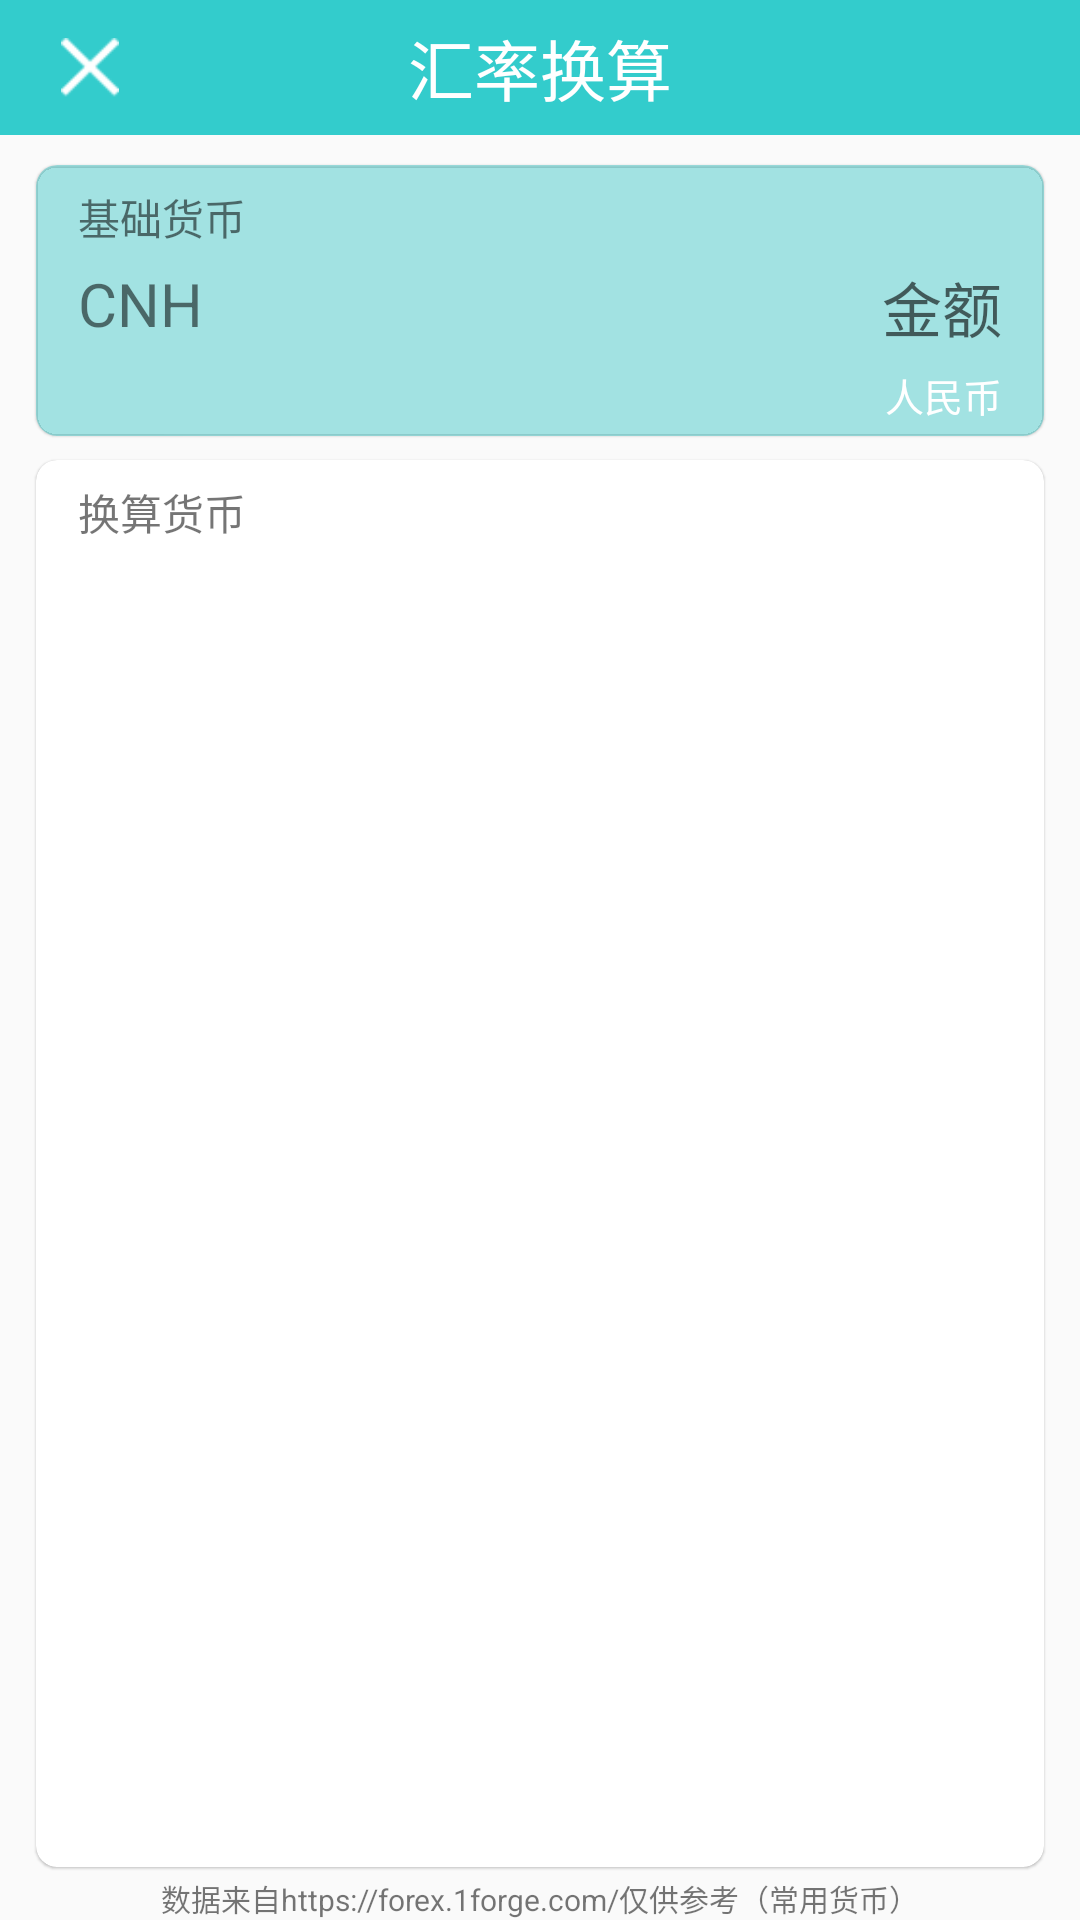

Icon click points for this 1080×1920 phone screenshot, format point (x, y):
close: point (90, 67)
